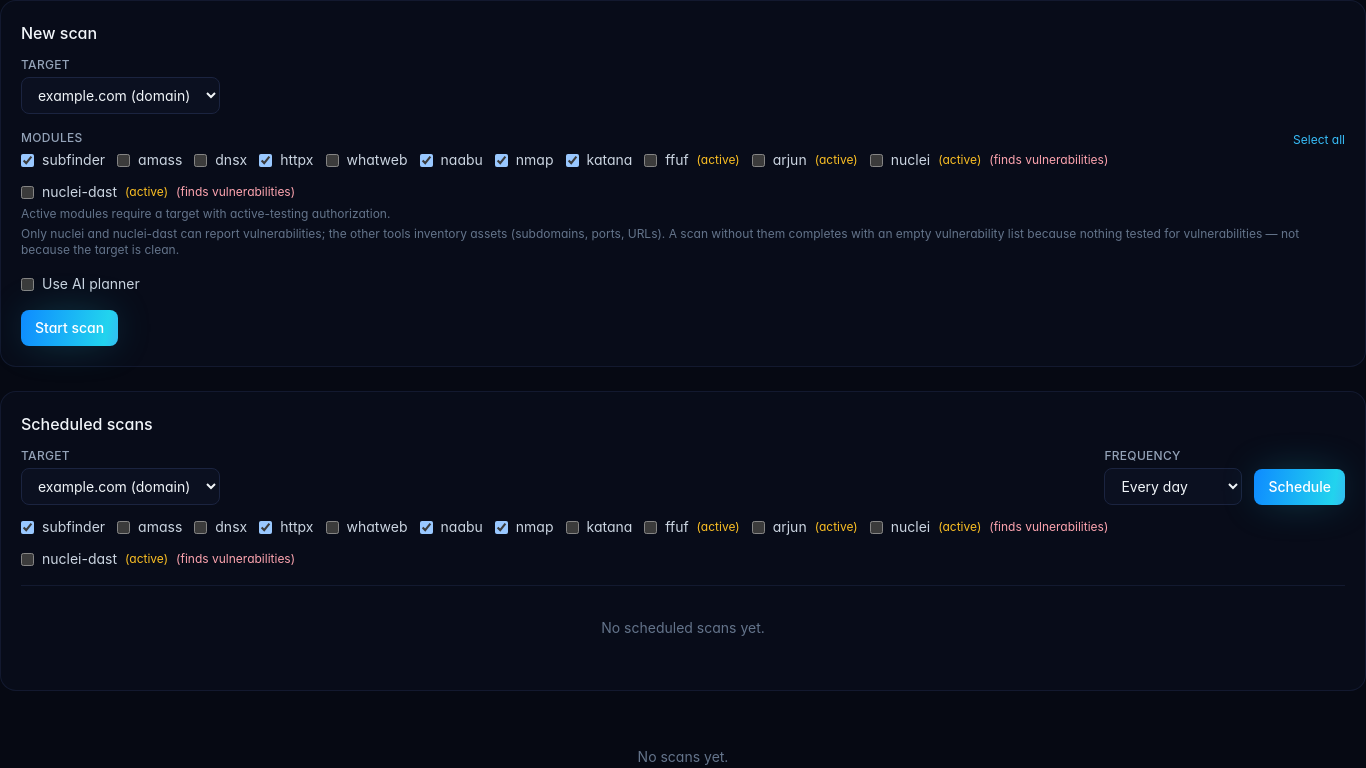
Test case: ScansTab tool selection › selects every available tool and flips the control to Clear all
Expected: the checkbox labelled "subfinder" below "New scan" is shown, top-left (21, 154), bottom-right (34, 166)
Click the button "Select all" at (1319, 140), box top-left (1293, 132), bottom-right (1345, 148)
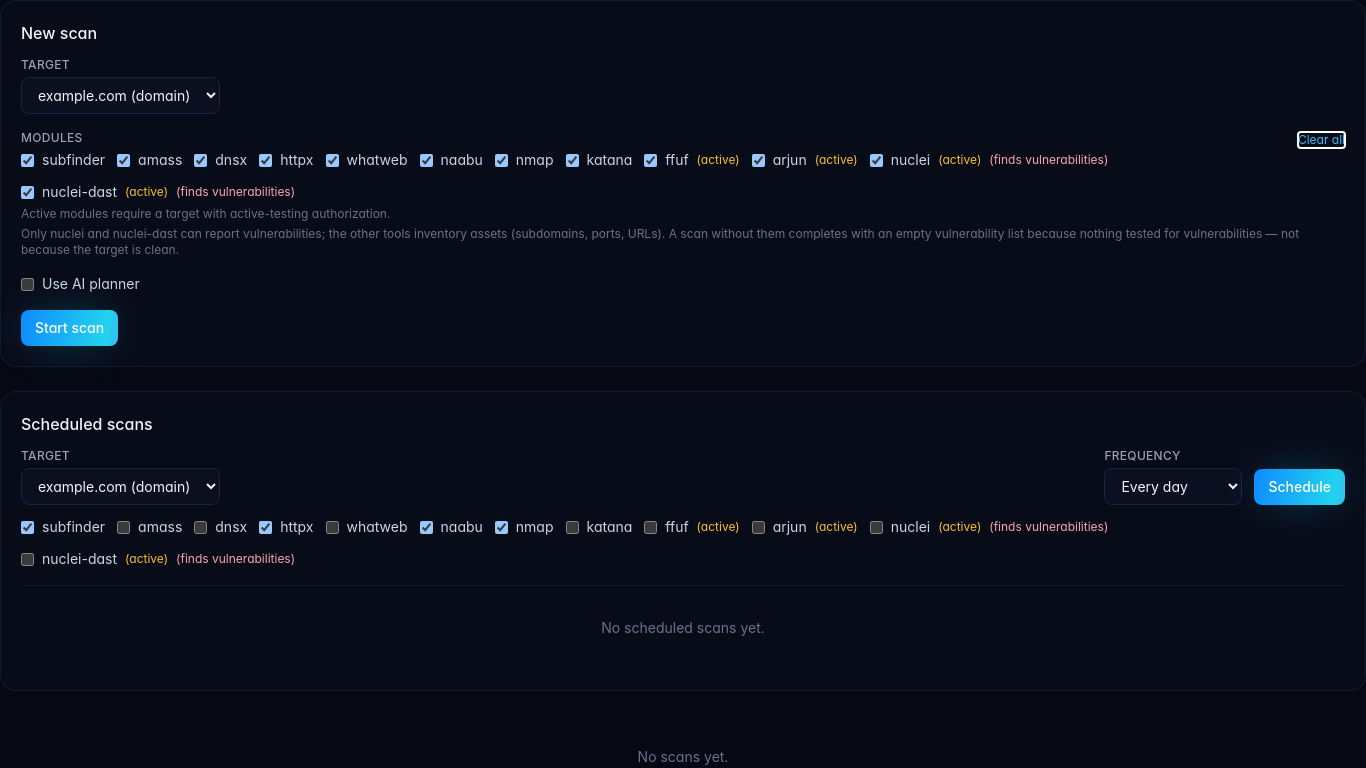
Result: the checkbox labelled "amass" below "New scan" is checked at top-left (117, 154), bottom-right (130, 166)
Result: the checkbox labelled "dnsx" below "New scan" is checked at top-left (194, 154), bottom-right (207, 166)
Result: the checkbox labelled "whatweb" below "New scan" is checked at top-left (326, 154), bottom-right (338, 166)
